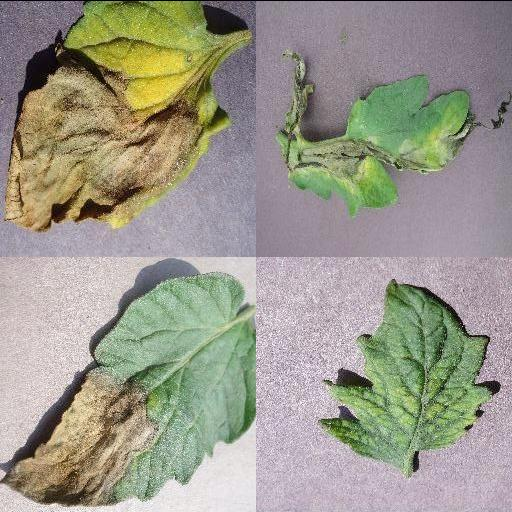Late Blight: (0, 270, 256, 506), (0, 0, 229, 232), (277, 49, 512, 219)
Mosaic Virus: (320, 278, 494, 468)
